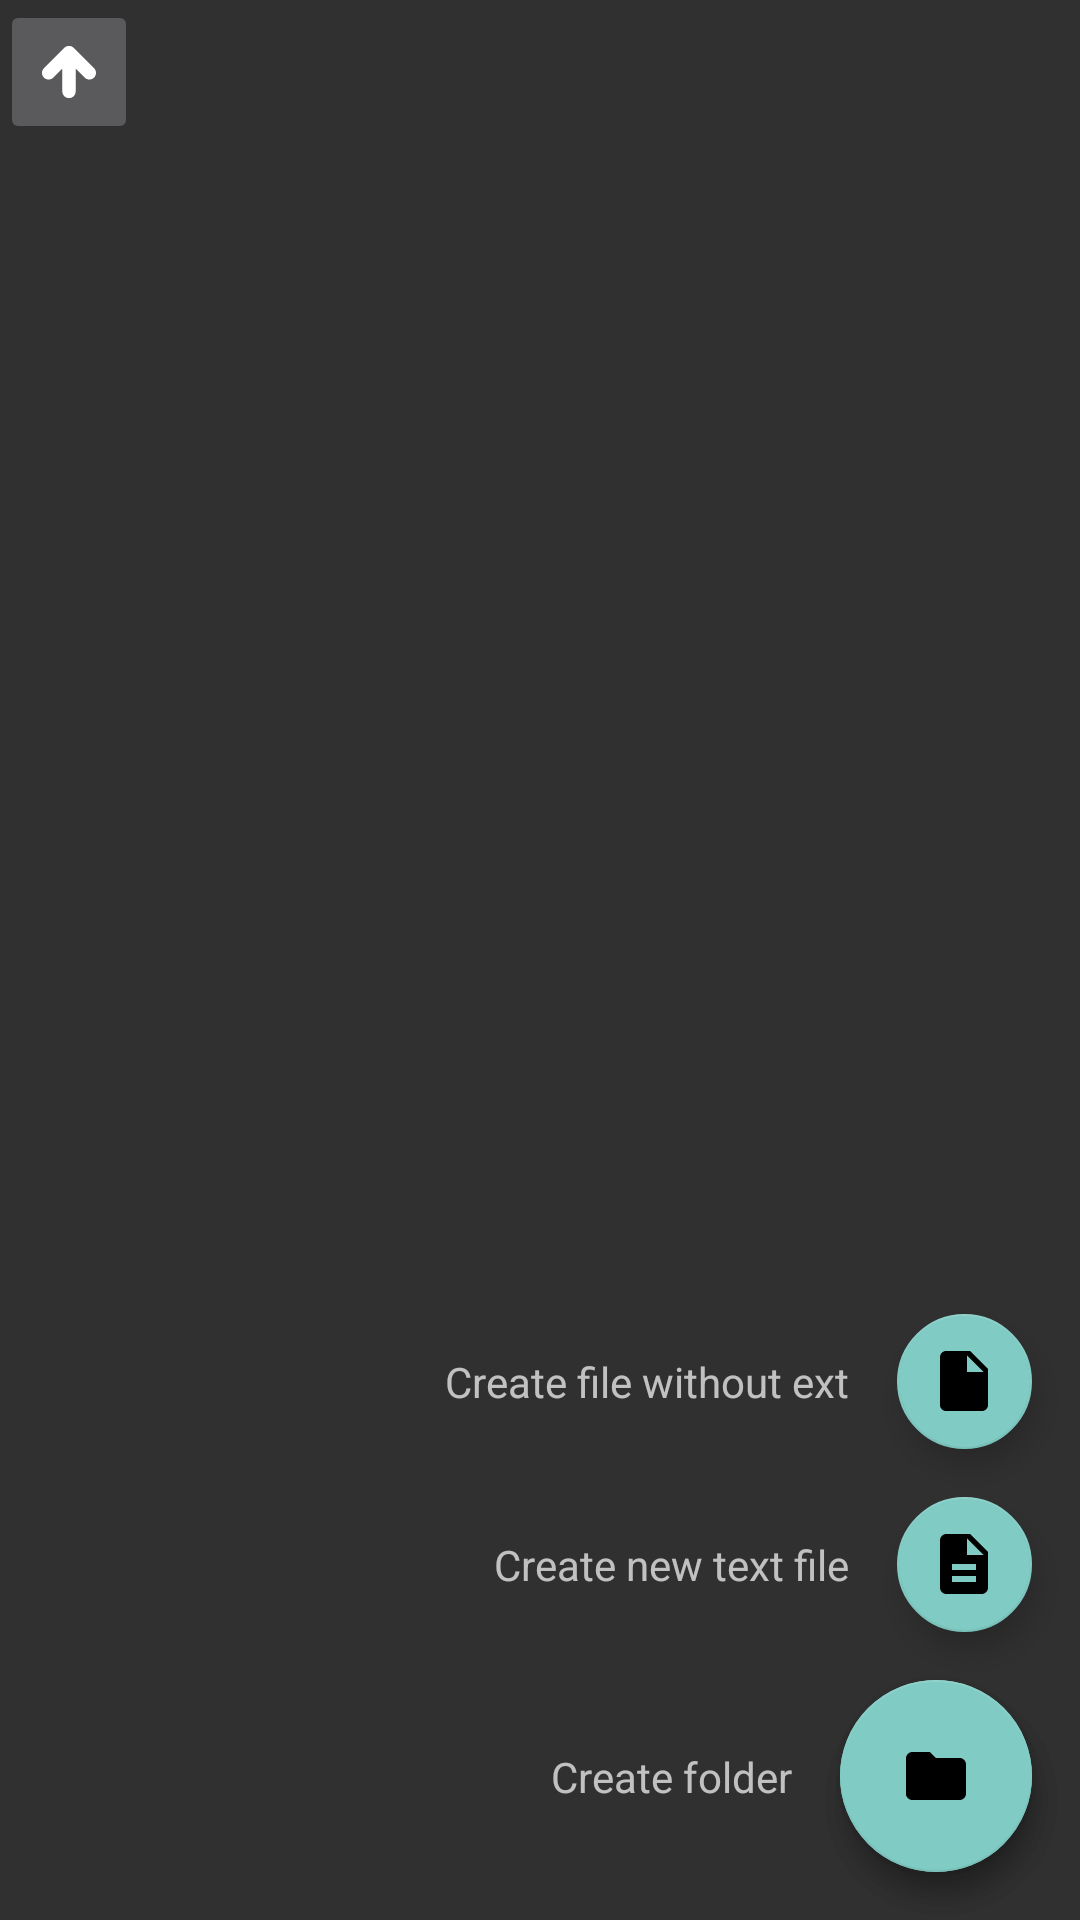

Icons on this 1080px x 1920px Android screen, each with the point to tap as [x,y]:
arrow up: [69,72]
